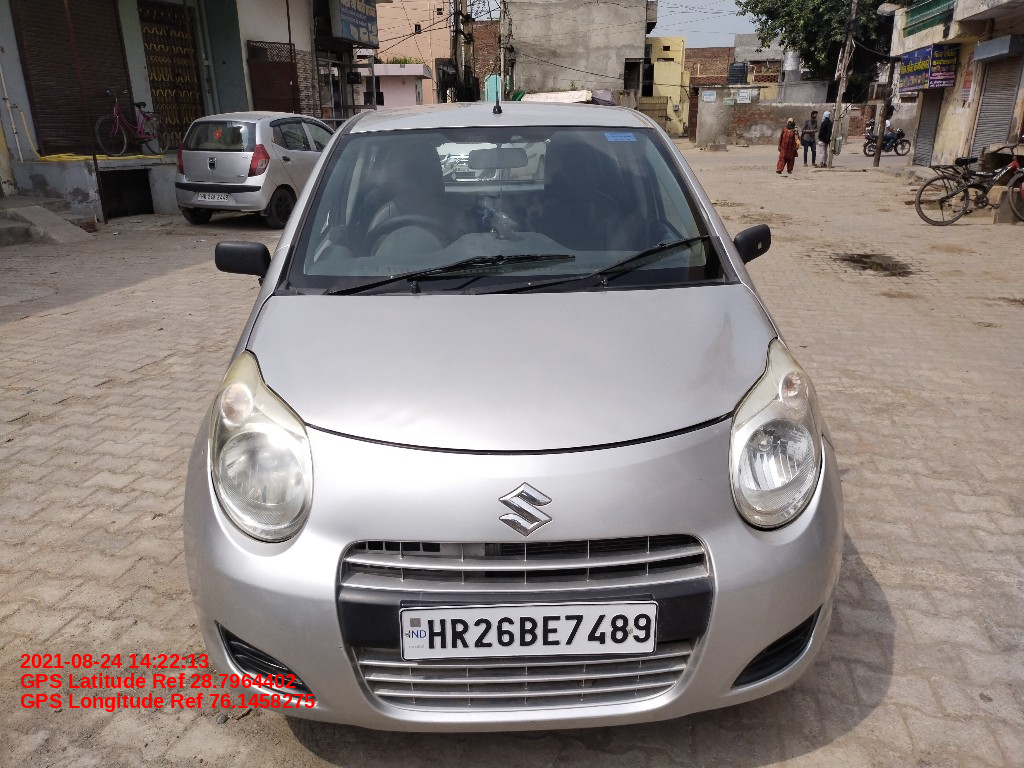Pressed: (697, 301, 763, 421)
Scratched: (333, 636, 355, 660)
